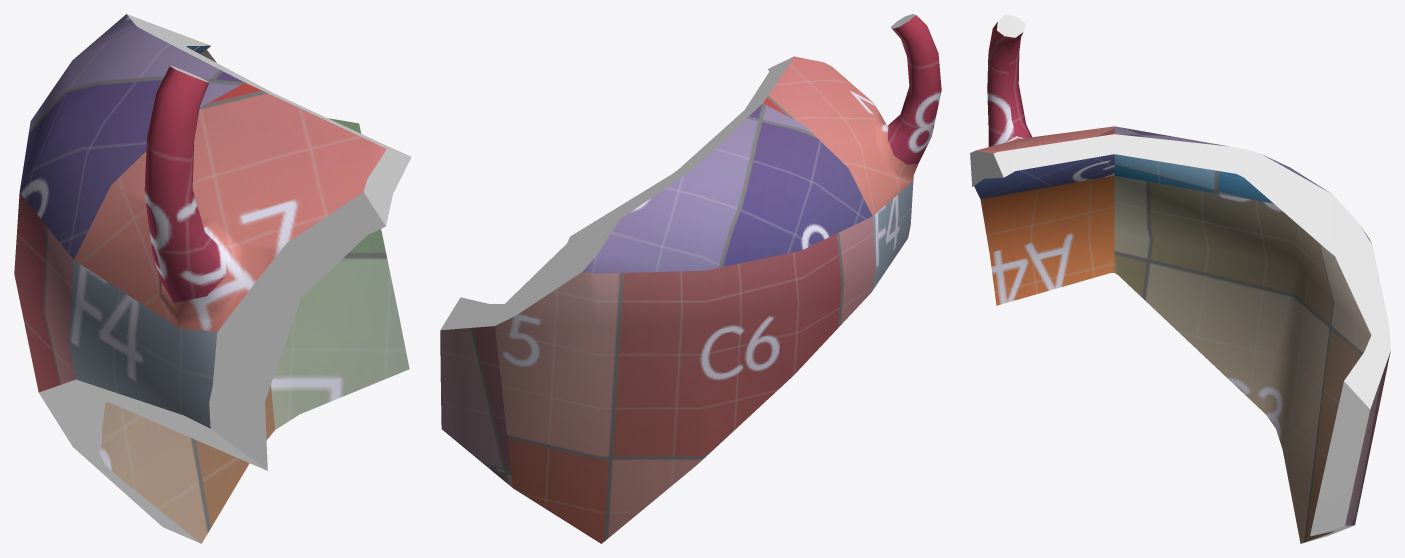
Rendered from MediumVase_SHAT_cell_010.fbx.
The picture shows the model from 3 angles, left to right: view 1: azimuth 30°, elevation 25°; view 2: azimuth 150°, elevation 25°; view 3: azimuth 270°, elevation 25°; orthographic projection. The views are drawn at different scales.
Visible parts, largest first — view 1: MediumVase_SHAT_cell_010; view 2: MediumVase_SHAT_cell_010; view 3: MediumVase_SHAT_cell_010.
Part boxes in pixels (x1,y1,x2,y2): MediumVase_SHAT_cell_010: (14,14,411,543); MediumVase_SHAT_cell_010: (440,14,941,543); MediumVase_SHAT_cell_010: (970,14,1390,543).
Bounding box in the file's own units: 0.7359 × 0.9753 × 0.8262.
2 materials, 1 textured.
